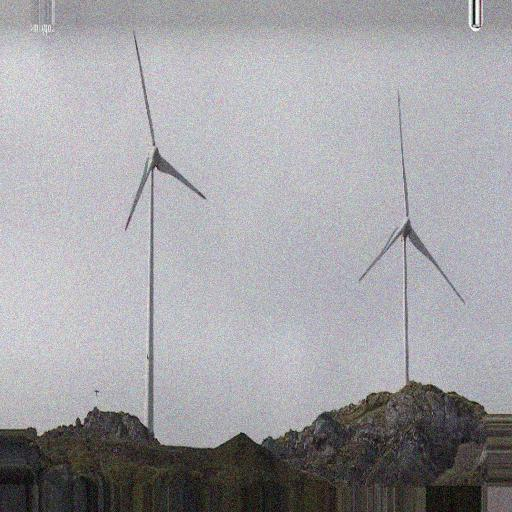wind turbine: (122, 31, 207, 436), (358, 91, 468, 387)
